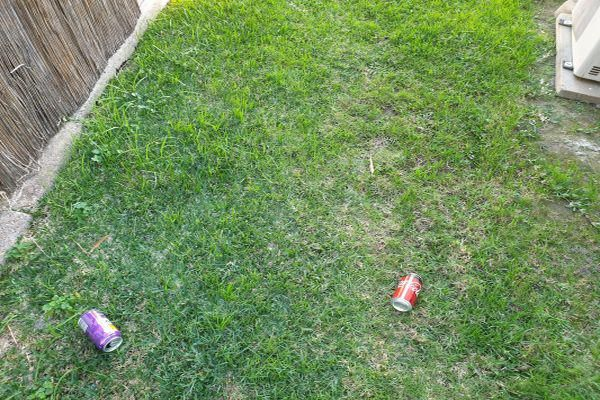Plastic Bottle: (78, 308, 124, 353), (390, 273, 423, 312)
